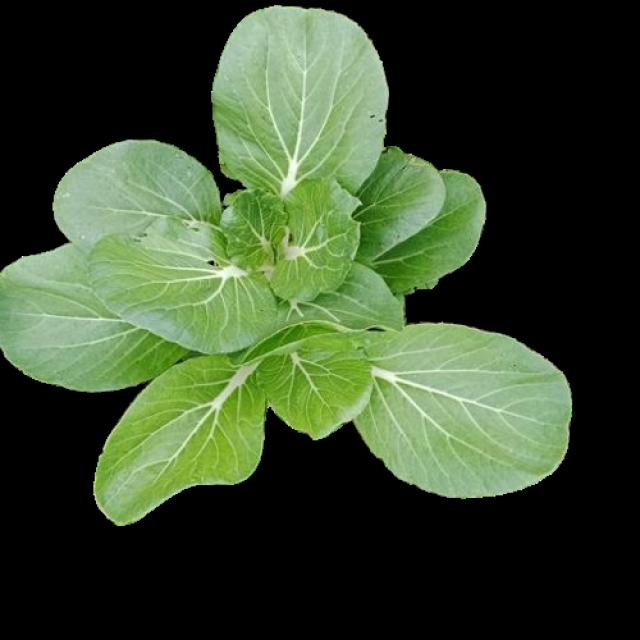not-mature: (2, 6, 570, 525)
unhealthy: (214, 9, 385, 184), (86, 211, 283, 353), (356, 144, 444, 250)
